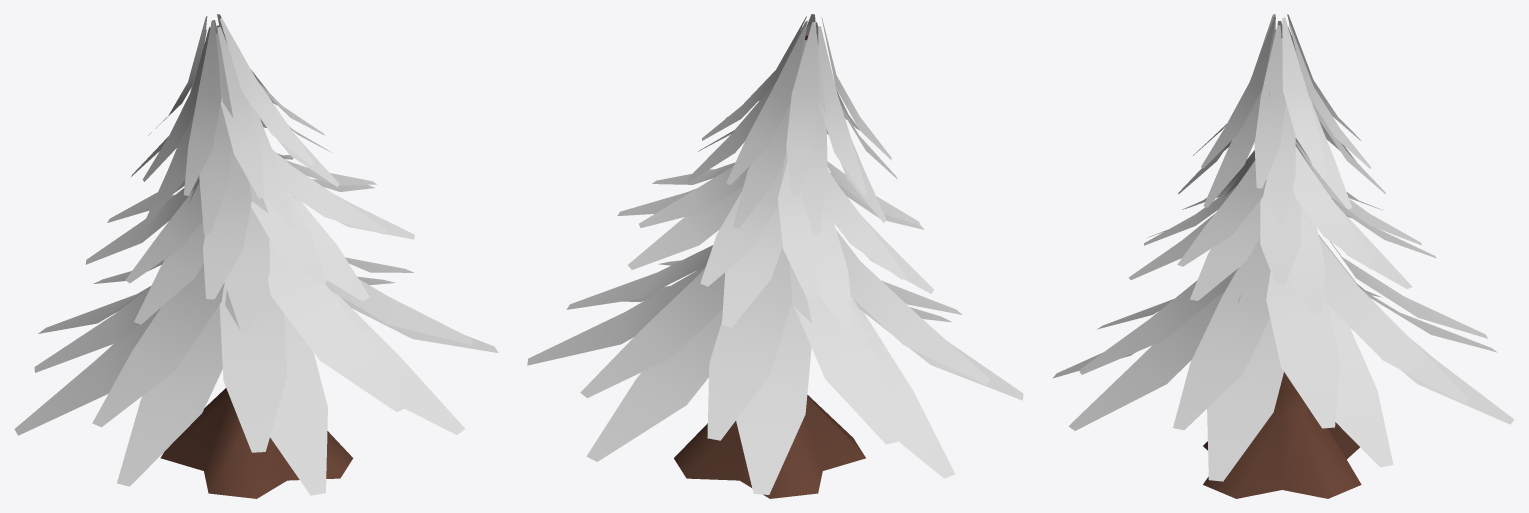
File: Fir1.fbx
The picture shows the model from 3 angles, left to right: view 1: azimuth 30°, elevation 25°; view 2: azimuth 150°, elevation 25°; view 3: azimuth 270°, elevation 25°; orthographic projection. The views are drawn at different scales.
Visible parts, largest first — view 1: Fir1; view 2: Fir1; view 3: Fir1.
Part boxes in pixels (box(x1,y1,x2,y2)): Fir1: box(14, 14, 498, 498); Fir1: box(527, 14, 1023, 498); Fir1: box(1052, 14, 1514, 498).
Bounding box in the file's own units: 448 × 462 × 450.
